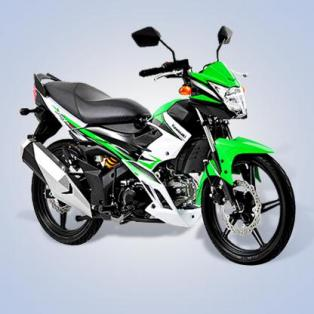Motocicleta: (22, 17, 298, 268)
